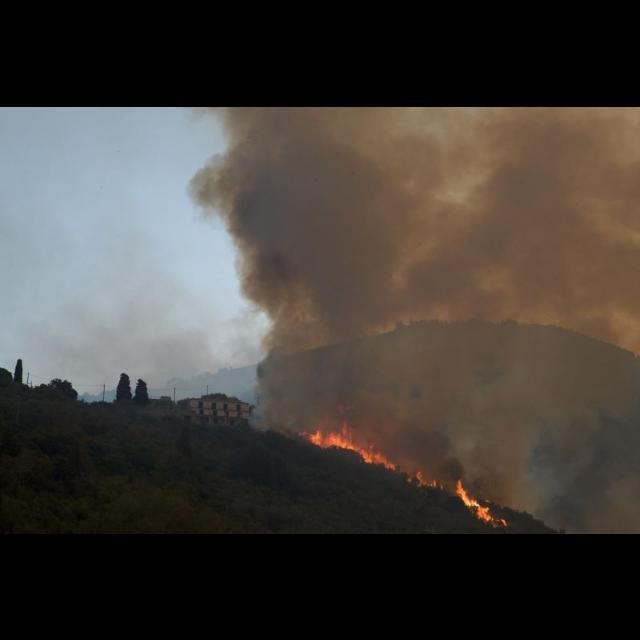Fire: (307, 419, 397, 471), (454, 478, 508, 528), (414, 468, 444, 492)
Smoke: (184, 107, 640, 533)
